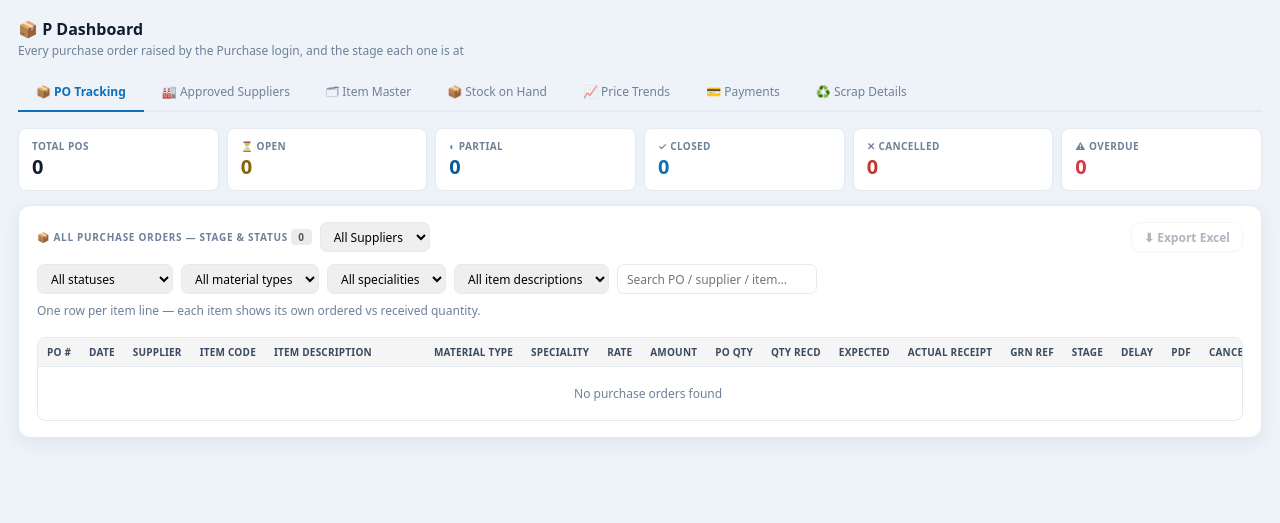
Test: P Dashboard — Scrap tab board and trend chart › renders the trend chart and retitles it as filters narrow
Click the text "♻️ Scrap Details" at (861, 92), box [816,83,907,100]
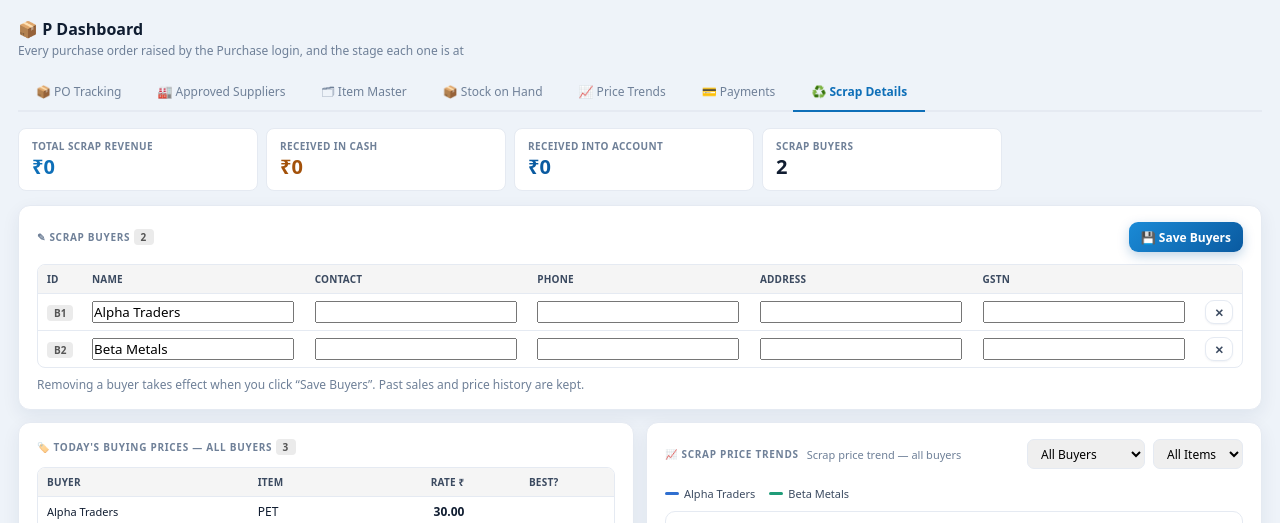
Now the text "📈 Scrap Price Trends" is shown, box [665,447,799,461]
Now the text "Scrap price trend — all buyers" is shown, box [807,446,961,462]
Select "Alpha Traders" in the dropdown named "Filter by buyer" at (1086, 454), box [1027,439,1145,469]
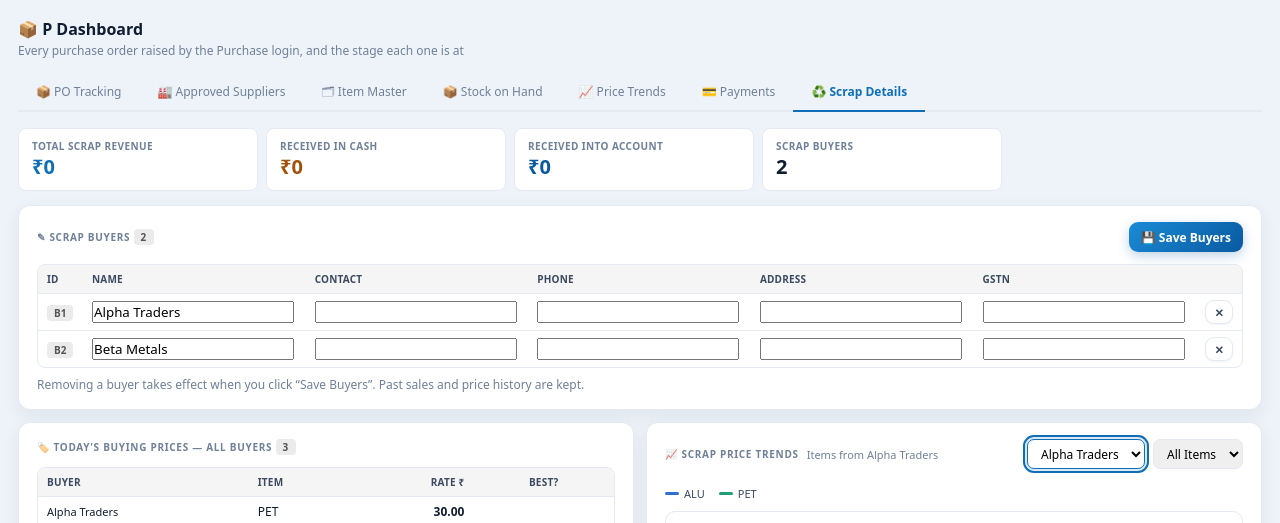
Now the text "Items from Alpha Traders" is shown, box [807,446,938,462]
Select "PET" in the dropdown named "Filter by item" at (1198, 454), box [1153,439,1243,469]
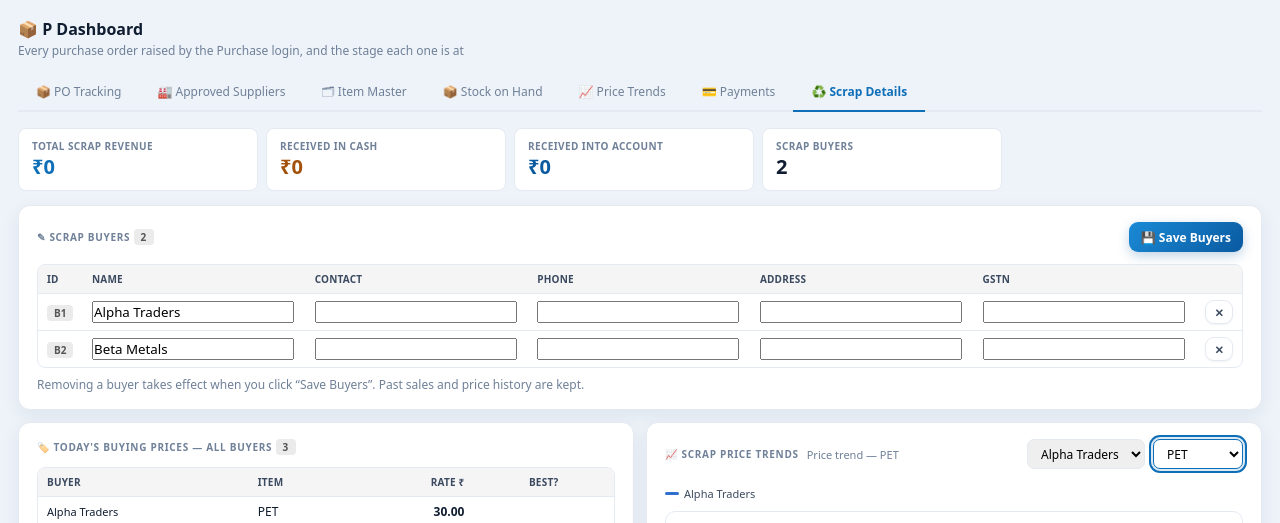
Now the text "Price trend — PET" is shown, box [807,446,899,462]
